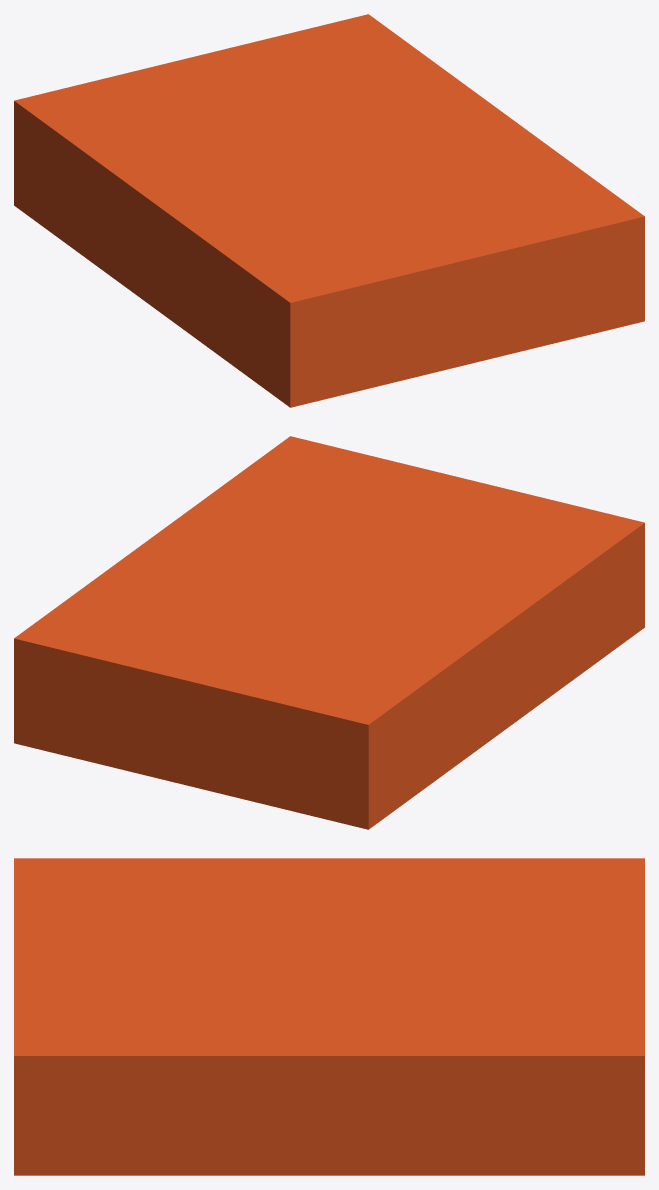
File: Akka_02_animation.glb
The picture shows the model from 3 angles, top to bottom: view 1: azimuth 30°, elevation 25°; view 2: azimuth 150°, elevation 25°; view 3: azimuth 270°, elevation 25°; orthographic projection. The views are drawn at different scales.
Parts seen in each view (by area): view 1: Cube; view 2: Cube; view 3: Cube.
Part boxes in pixels (box(x1,y1,x2,y2)): Cube: box(14, 14, 644, 407); Cube: box(14, 436, 644, 829); Cube: box(14, 858, 644, 1175).
Size of the model in its own units: 121 by 34.2 by 163.
